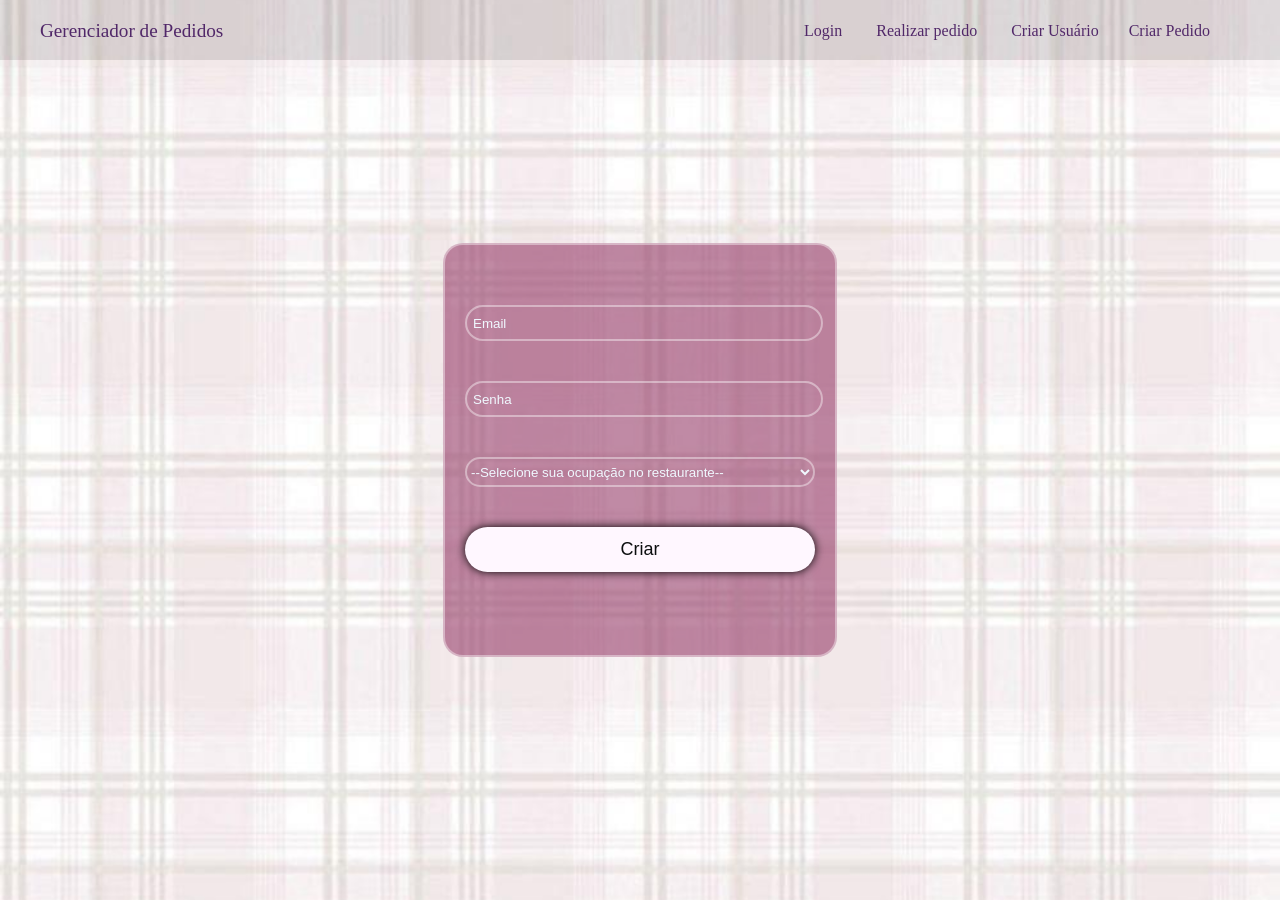
Test: CreateUserFormRendering › Testa a submissão do formulário com resposta de sucesso
Type "teste@teste.com" into the field with placeholder "Email" at (644, 323), box [465, 305, 823, 341]
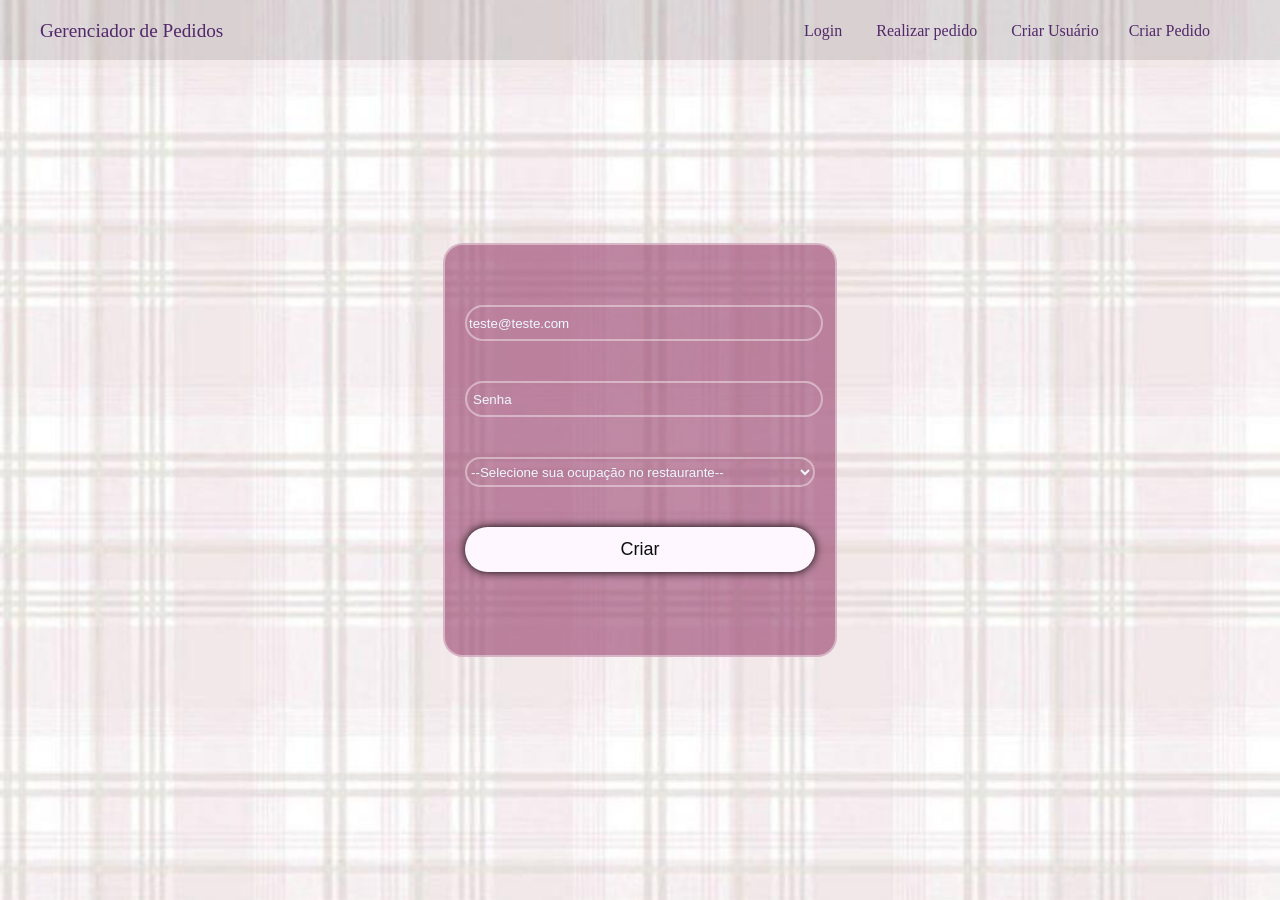
Type "password" into the field with placeholder "Senha" at (644, 399), box [465, 381, 823, 417]
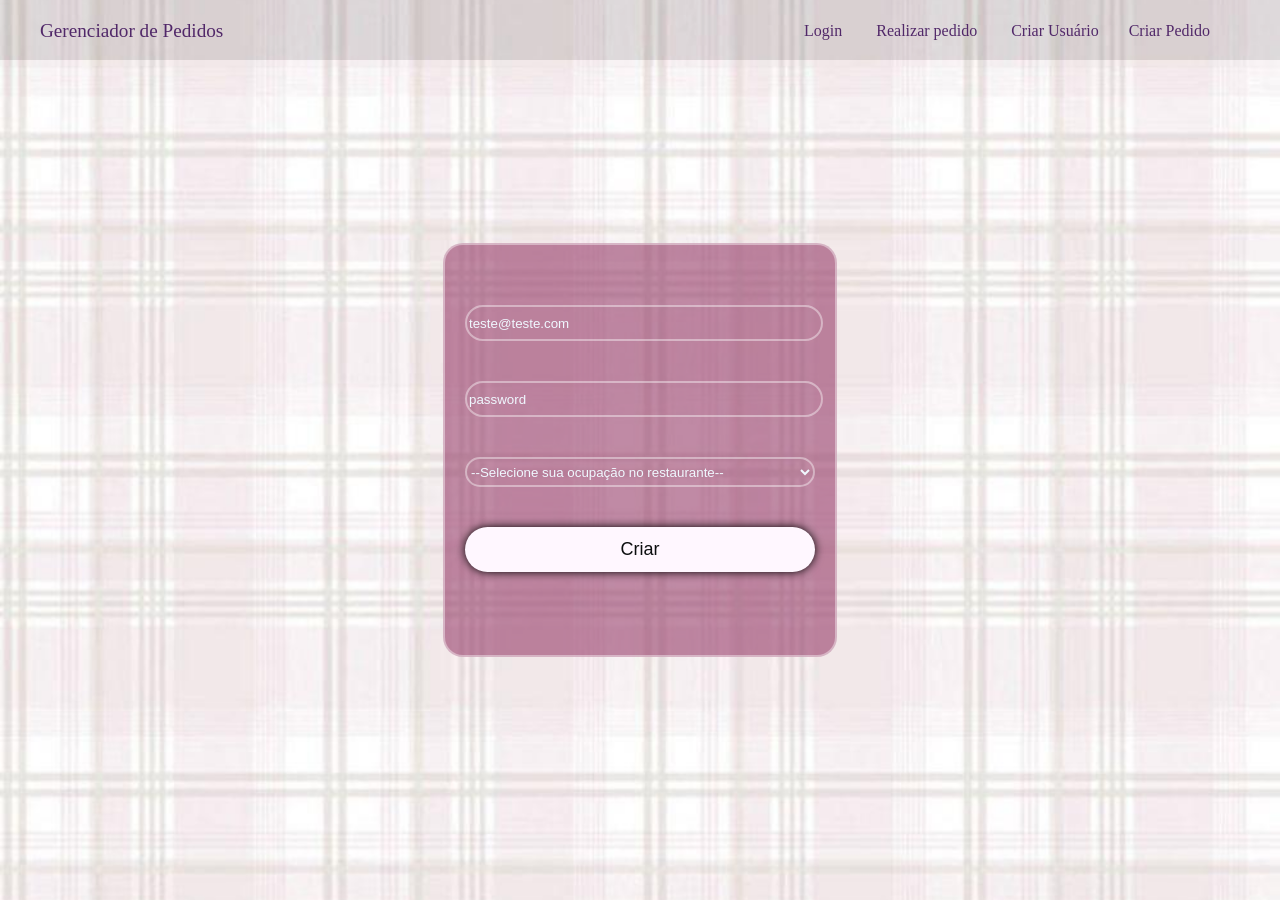
Select "Cozinha" in the dropdown with test id "role-test" at (640, 472), box [465, 457, 815, 487]
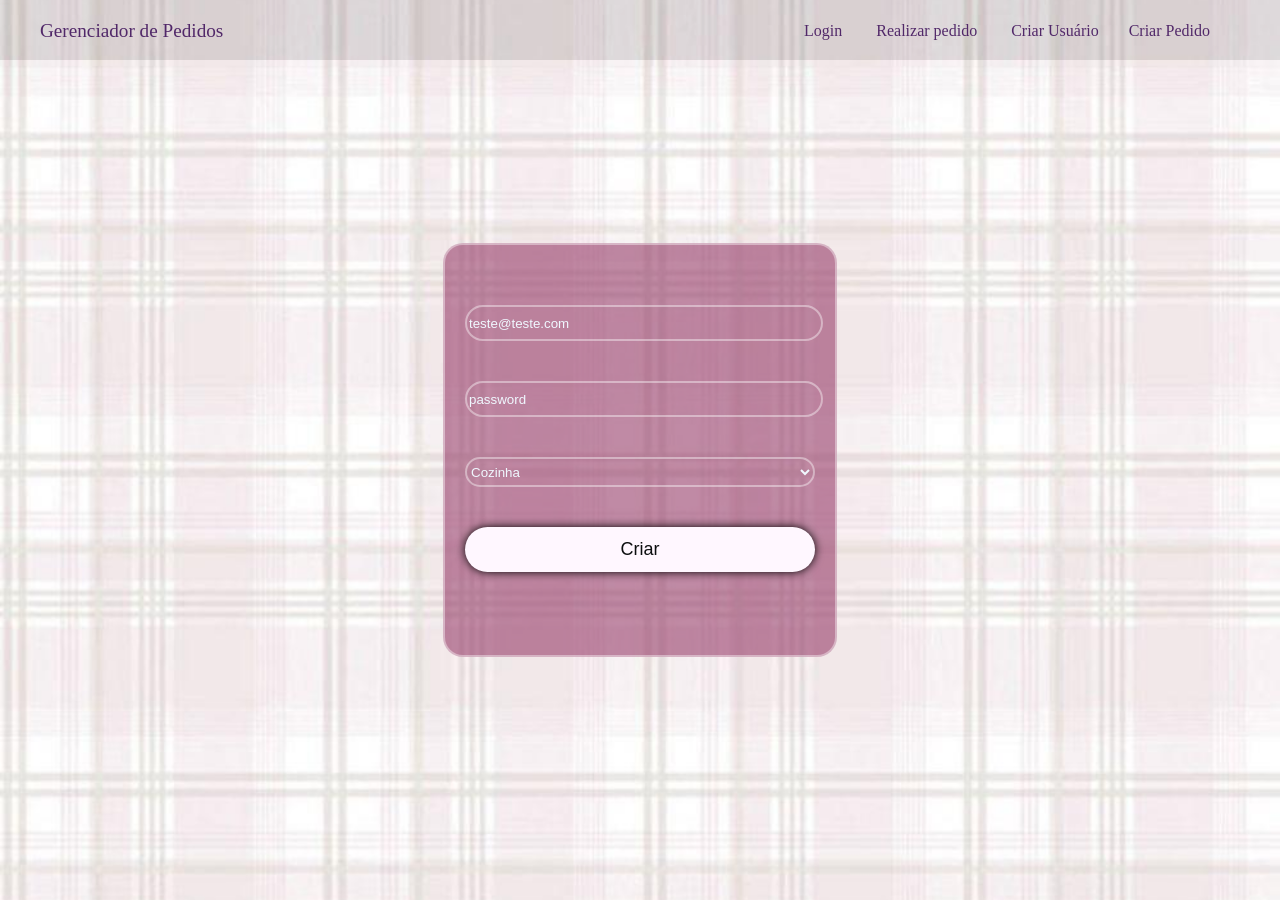
Click the button "Criar" at (640, 550), box [465, 527, 815, 572]
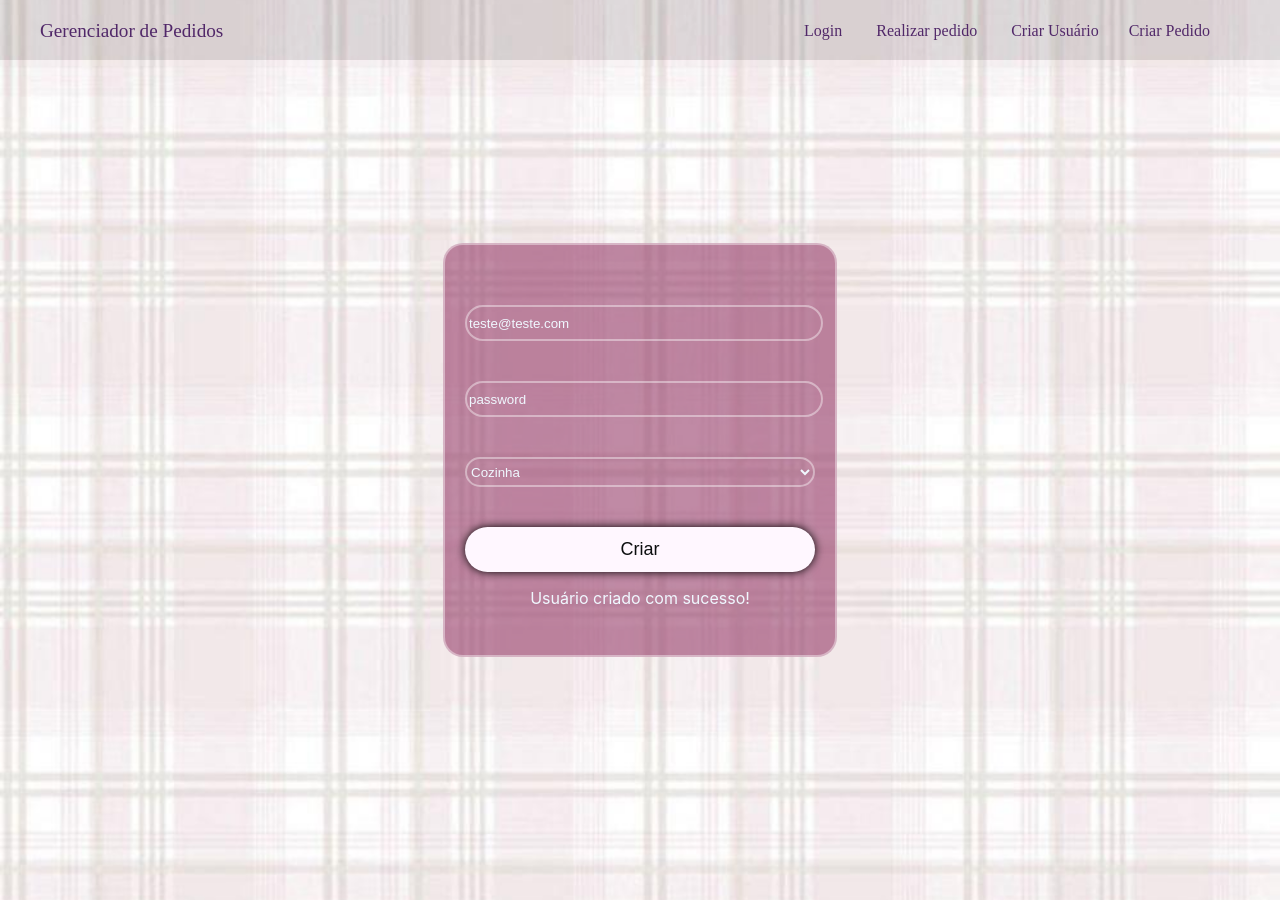
Result: the text "Usuário criado com sucesso!" is shown at [530, 588, 750, 608]
